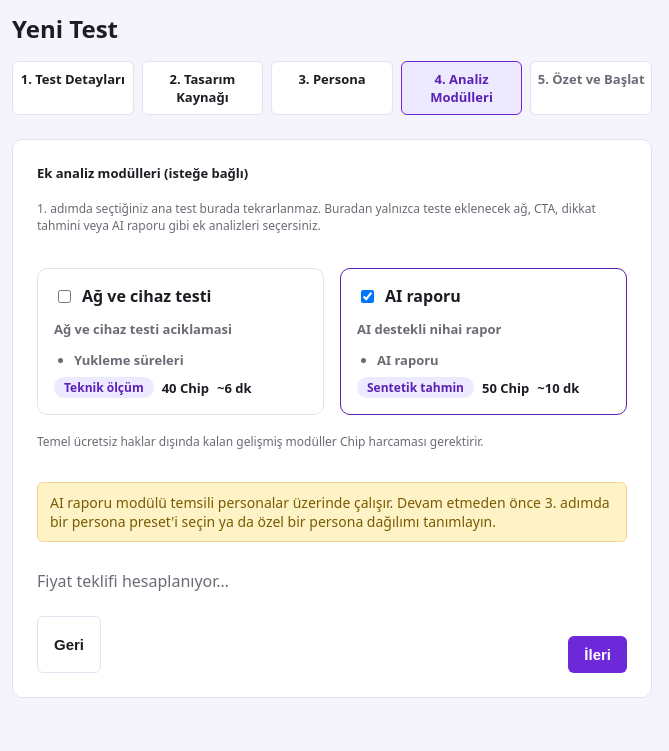
Test: TestWizard › 4. adimda ai_report secili ama persona secimi yoksa Ileri kullaniciyi persona adimina yonlendirir
Expected: the text "Ek analiz modülleri (isteğe bağlı)" is shown, 37,164 -> 248,182
Step 1. Click the button "İleri" → (598, 654), box 568,636 -> 627,673
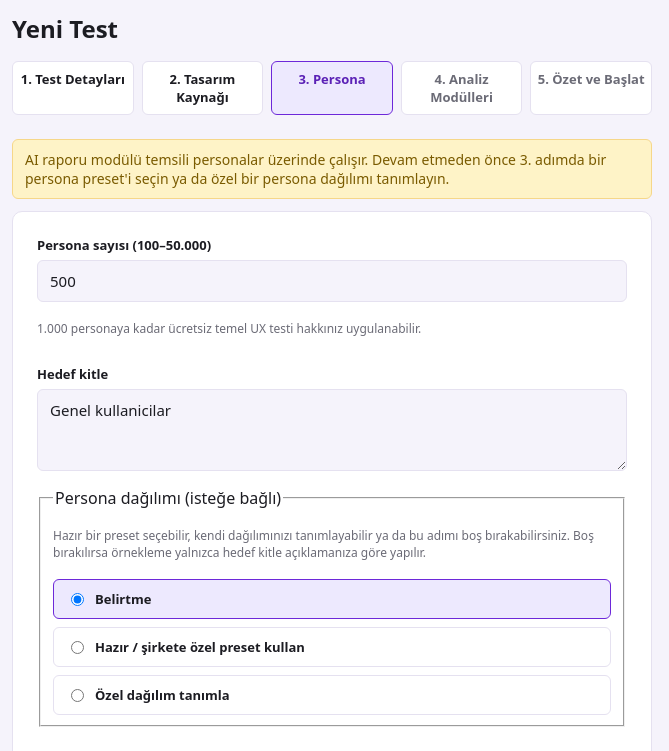
Expected: the text "AI raporu modülü temsili personalar üzerinde çalışır" is shown, 25,150 -> 606,188
Expected: the number field labelled "Persona sayısı (100–50.000)" is shown, 37,260 -> 627,302
